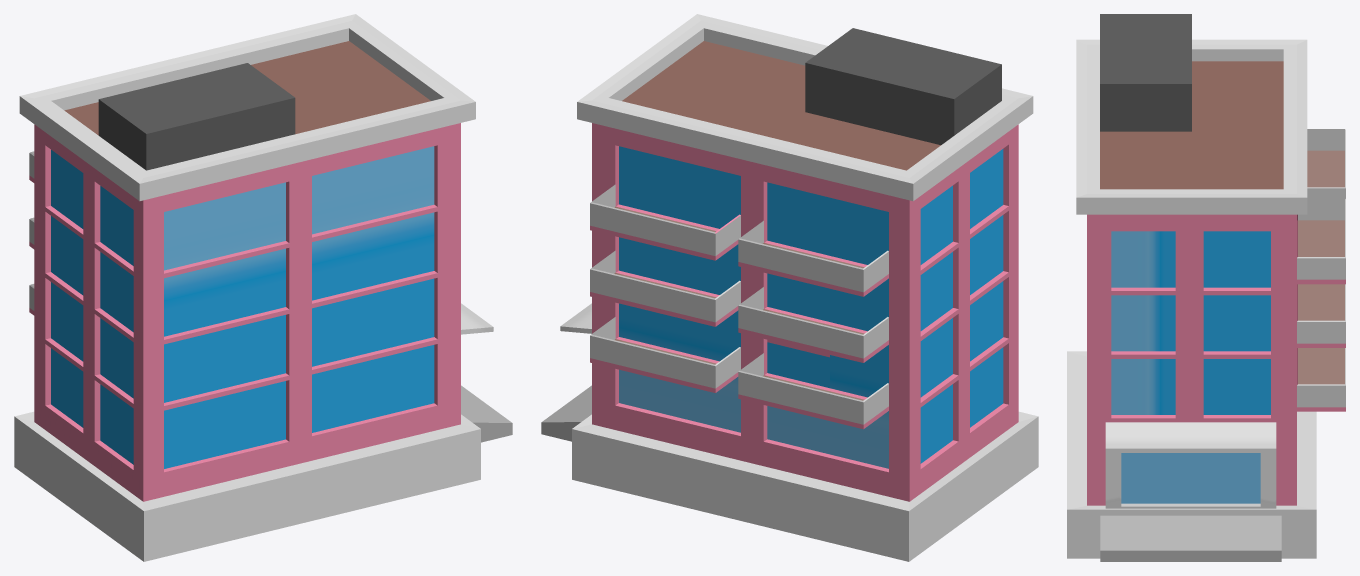
Rendered from House_1.fbx.
3 renders of one model, left to right at view 1: azimuth 30°, elevation 25°; view 2: azimuth 150°, elevation 25°; view 3: azimuth 270°, elevation 25°, orthographic. The views are drawn at different scales.
Visible parts, largest first — view 1: house; view 2: house; view 3: house.
Boxes of the visible parts, x1=… form: house: x1=14, y1=14, x2=512, y2=561; house: x1=541, y1=14, x2=1038, y2=561; house: x1=1067, y1=14, x2=1345, y2=561.
Bounding box in the file's own units: 13982 × 14217 × 9085.
1 material, 1 textured.
